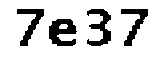3: (83, 4, 116, 53)
7: (120, 5, 154, 51), (14, 3, 45, 51)
e: (46, 16, 80, 52)
